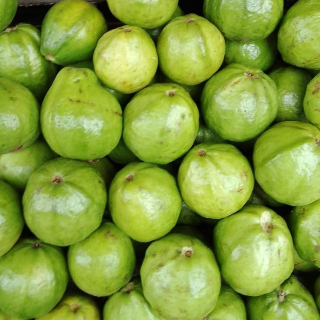oi: (40, 63, 121, 160), (23, 157, 105, 246), (214, 205, 294, 295), (141, 234, 220, 320), (124, 83, 200, 163), (201, 62, 277, 141), (180, 144, 253, 219), (110, 164, 179, 242), (40, 1, 108, 68), (159, 15, 224, 84), (93, 25, 158, 93)
